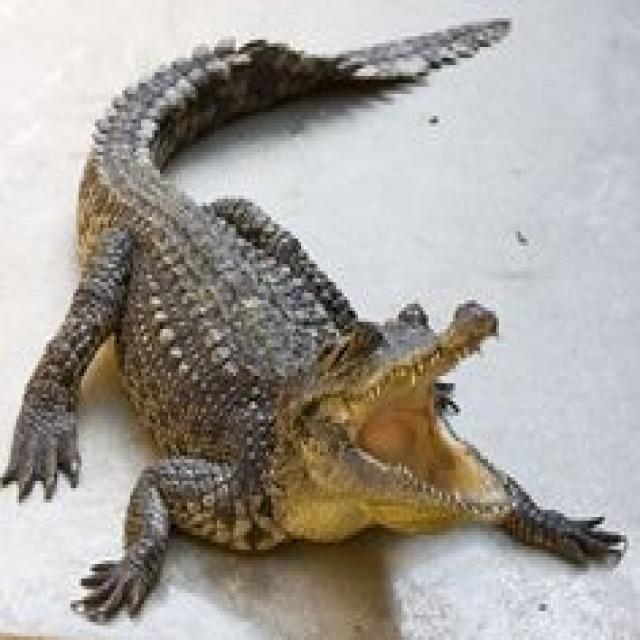Carnivorous: (0, 25, 624, 626)
